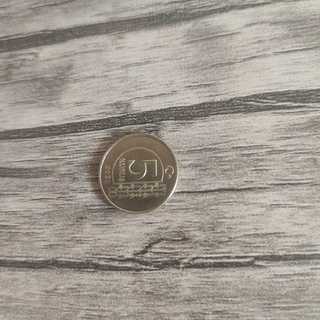5KURUS: (97, 130, 179, 214)
